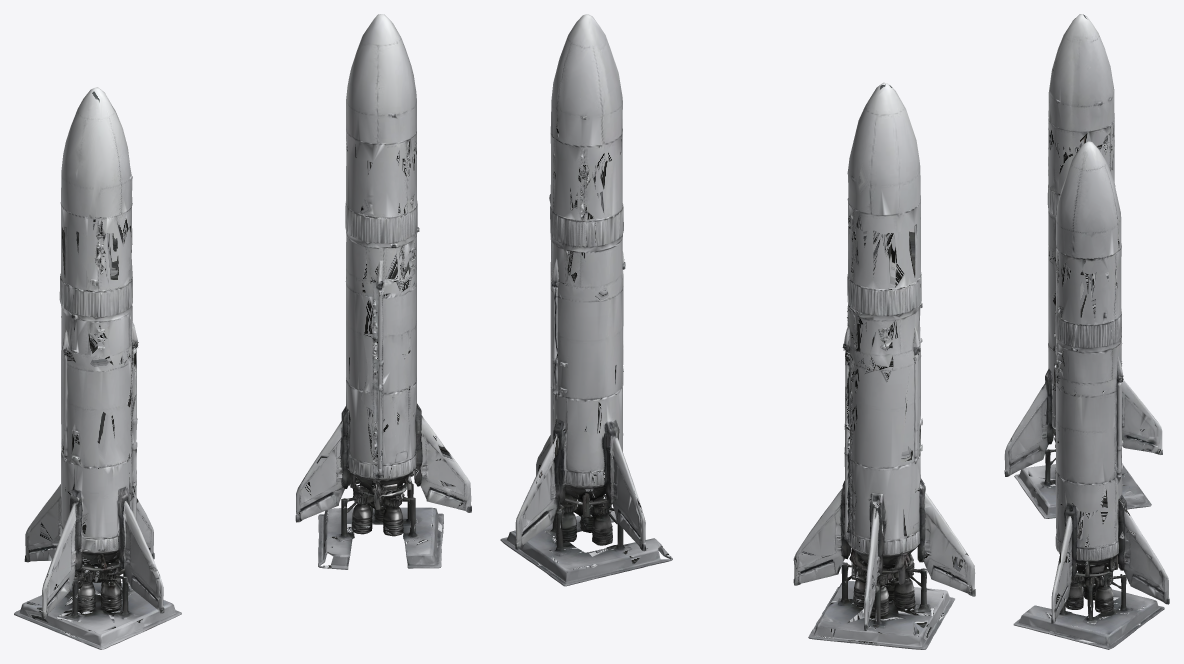
3 renders of one model, left to right at view 1: azimuth 30°, elevation 25°; view 2: azimuth 150°, elevation 25°; view 3: azimuth 270°, elevation 25°, orthographic. The views are drawn at different scales.
Visible parts, largest first — view 1: tripo_node_9917253c-d649-4417-980f-0fc3e9beab3b; view 2: tripo_node_9917253c-d649-4417-980f-0fc3e9beab3b; view 3: tripo_node_9917253c-d649-4417-980f-0fc3e9beab3b.
Part boxes in pixels (x1,y1,x2,y2): tripo_node_9917253c-d649-4417-980f-0fc3e9beab3b: [14, 14, 471, 649]; tripo_node_9917253c-d649-4417-980f-0fc3e9beab3b: [500, 14, 975, 649]; tripo_node_9917253c-d649-4417-980f-0fc3e9beab3b: [1004, 14, 1169, 649].
Size of the model in its own units: 0.8423 by 0.9789 by 0.3076.
1 material, 1 textured.
